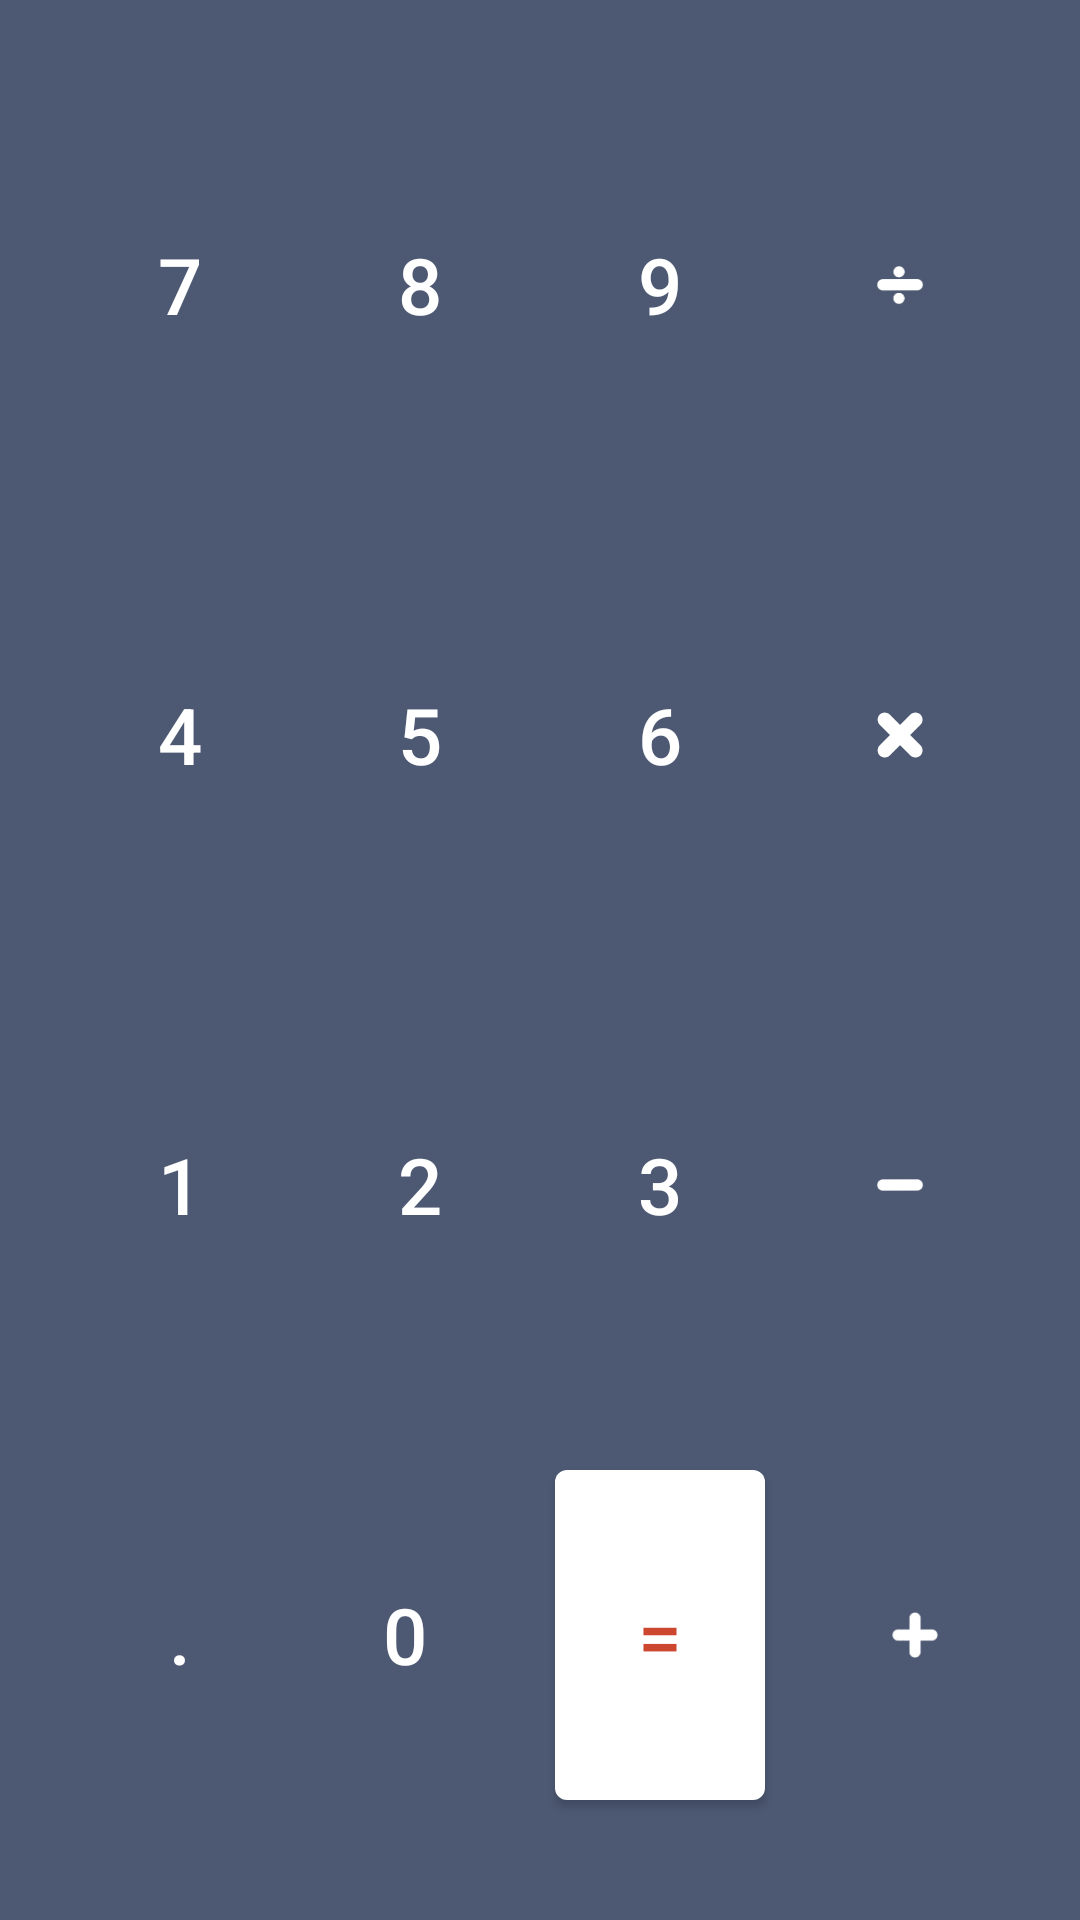

Named icons in this screenshot (1080 × 1920) and their centers, point (x, y):
addi: point (915, 1635)
divi: point (900, 285)
multi: point (900, 735)
subi: point (900, 1185)
